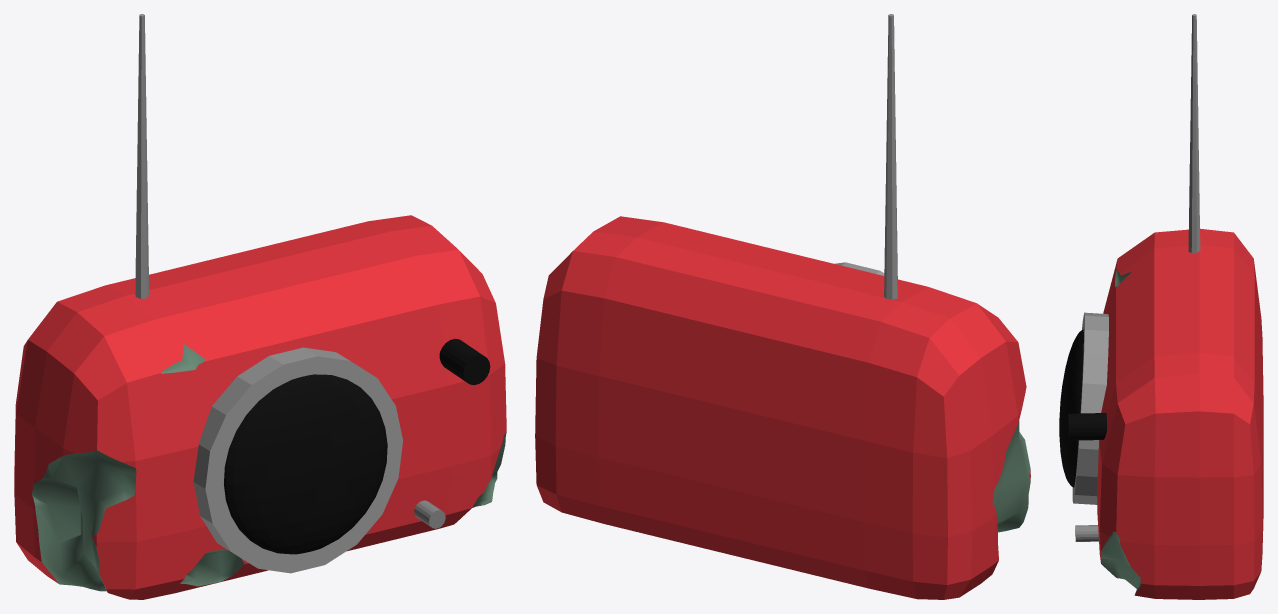
Rendered from Радио.fbx.
3 renders of one model, left to right at view 1: azimuth 30°, elevation 25°; view 2: azimuth 150°, elevation 25°; view 3: azimuth 270°, elevation 25°, orthographic. The views are drawn at different scales.
Parts seen in each view (by area): view 1: Cube_dmg, Sphere, Cylinder.001, Cylinder, Cylinder.002; view 2: Cube_dmg, Cylinder; view 3: Cube_dmg, Cylinder.001, Sphere, Cylinder, Cylinder.002, Cylinder.003.
Boxes of the visible parts, <box> form: Cube_dmg: <box>14,215,506,599</box>; Sphere: <box>224,374,387,554</box>; Cylinder.001: <box>193,347,402,573</box>; Cylinder: <box>135,14,149,298</box>; Cylinder.002: <box>439,339,490,385</box>; Cube_dmg: <box>535,216,1030,599</box>; Cylinder: <box>884,14,897,299</box>; Cube_dmg: <box>1097,228,1263,599</box>; Cylinder.001: <box>1072,312,1108,504</box>; Sphere: <box>1059,329,1083,487</box>; Cylinder: <box>1188,14,1200,252</box>; Cylinder.002: <box>1068,413,1106,440</box>; Cylinder.003: <box>1075,525,1098,541</box>.
Size of the model in its own units: 46.41 by 55.94 by 22.44.
